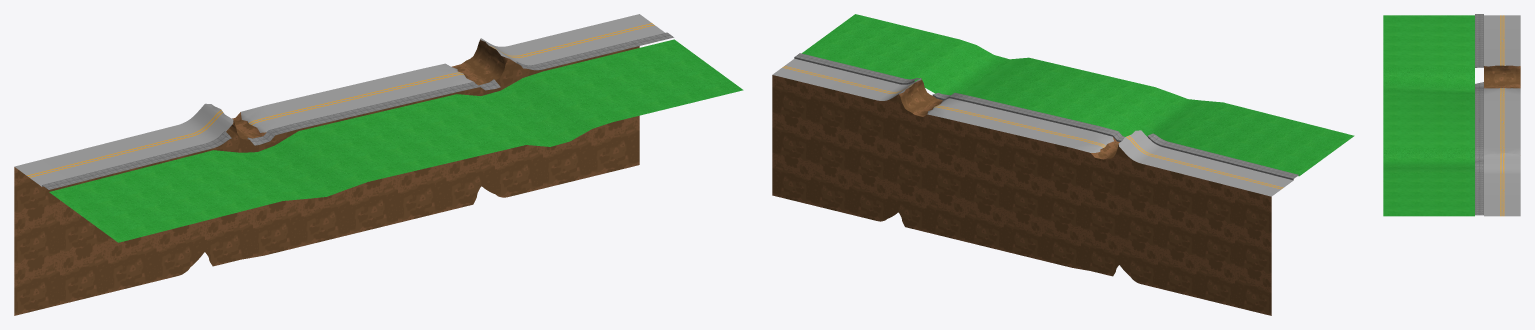
File: Terrain_09_jump_point_3.FBX
The picture shows the model from 3 angles, left to right: view 1: azimuth 30°, elevation 25°; view 2: azimuth 150°, elevation 25°; view 3: azimuth 270°, elevation 25°; orthographic projection. The views are drawn at different scales.
Visible parts, largest first — view 1: Terrain_09_grass, Terrain_09_ground, Terrain_09; view 2: Terrain_09_ground, Terrain_09_grass, Terrain_09; view 3: Terrain_09_grass, Terrain_09.
Part boxes in pixels (left/top/right/bottom): Terrain_09_grass: left=49, top=39, right=743, bottom=242; Terrain_09_ground: left=14, top=46, right=639, bottom=315; Terrain_09: left=14, top=14, right=673, bottom=189; Terrain_09_ground: left=772, top=75, right=1271, bottom=315; Terrain_09_grass: left=802, top=14, right=1354, bottom=176; Terrain_09: left=772, top=53, right=1298, bottom=196; Terrain_09_grass: left=1383, top=15, right=1474, bottom=216; Terrain_09: left=1475, top=14, right=1520, bottom=216.
Bounding box in the file's own units: 520 × 135 × 150.
